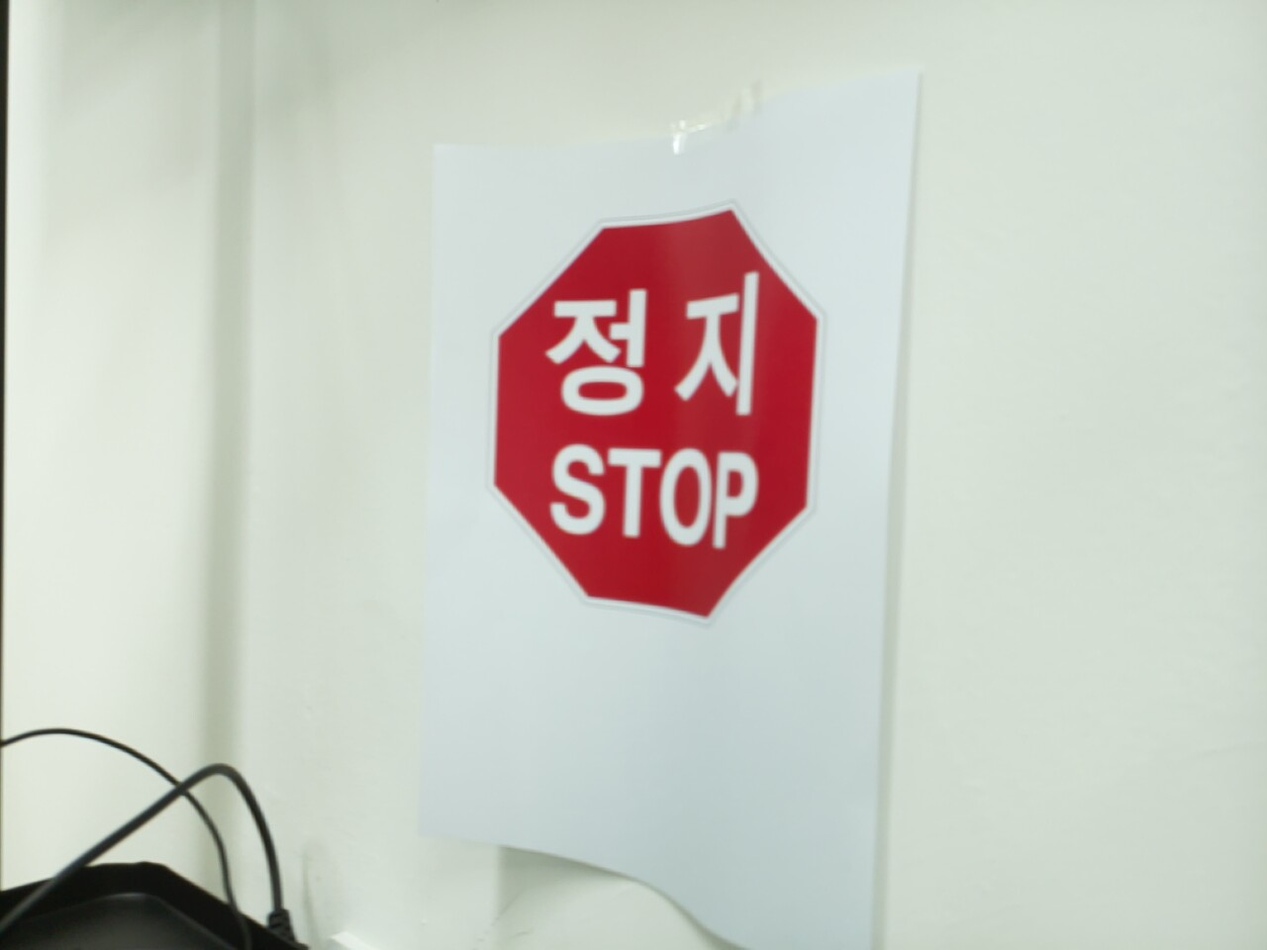stop: (484, 198, 827, 628)
